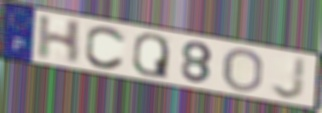8: (181, 40, 214, 85)
C: (83, 24, 128, 72)
H: (35, 14, 85, 66)
J: (269, 55, 308, 101)
O: (220, 46, 265, 94)
Q: (131, 32, 170, 81)
